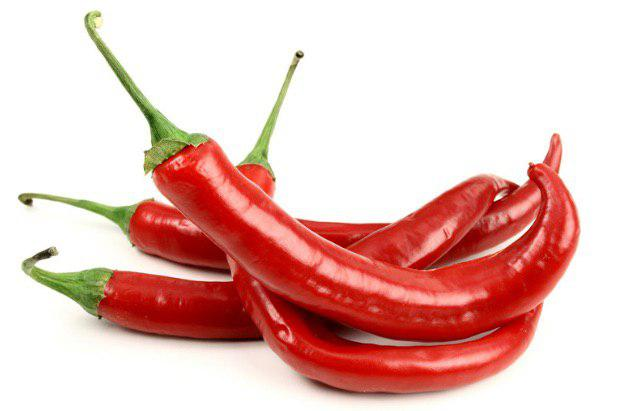lada merah: (139, 121, 585, 331), (231, 265, 557, 404), (103, 246, 267, 357)
